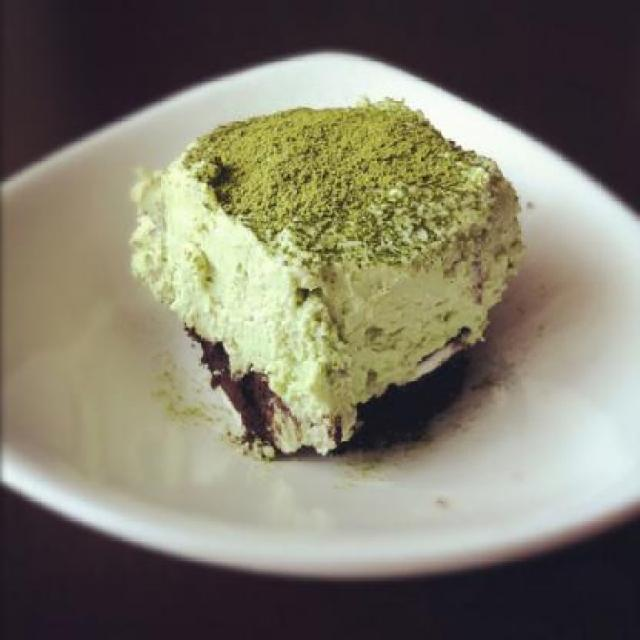Rare cheese cake: (86, 79, 552, 467)
